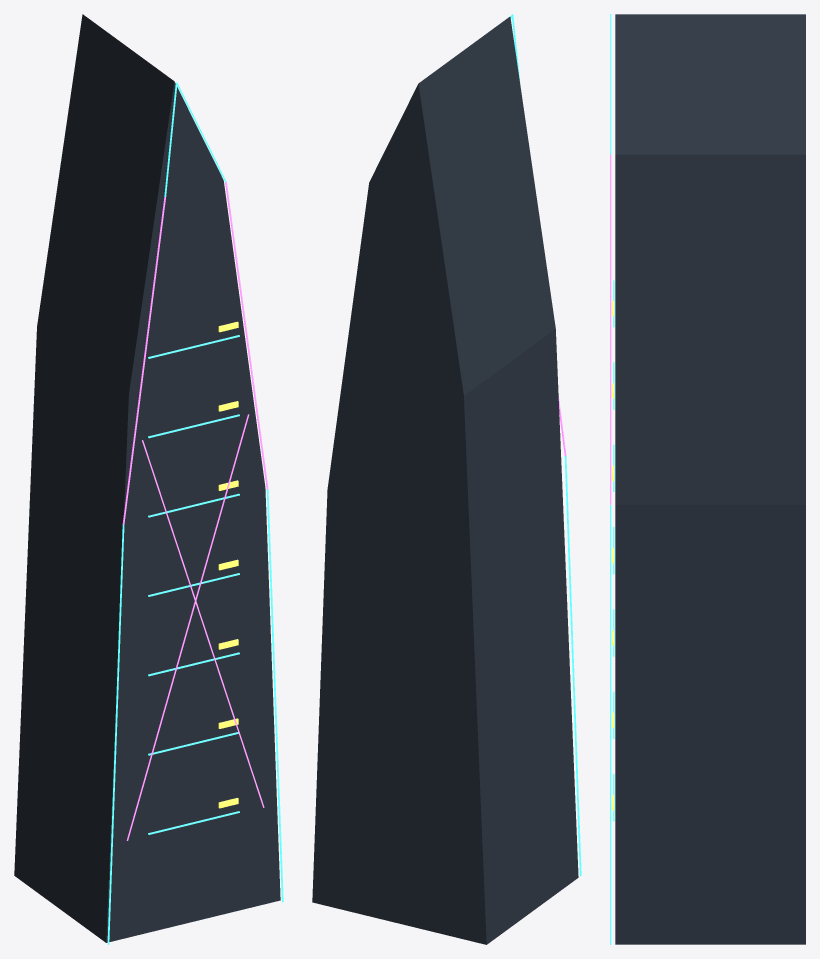
Rendered from industrial_spire.glb.
3 views of the same model, side by side, from view 1: azimuth 30°, elevation 25°; view 2: azimuth 150°, elevation 25°; view 3: azimuth 270°, elevation 25° (orthographic). The views are drawn at different scales.
Parts seen in each view (by area): view 1: industrial_spire; view 2: industrial_spire; view 3: industrial_spire.
Boxes of the visible parts, bbox=[...] form: industrial_spire: bbox=[14, 14, 283, 944]; industrial_spire: bbox=[312, 14, 581, 944]; industrial_spire: bbox=[610, 14, 805, 944].
Size of the model in its own units: 46.3 by 213 by 43.15.
